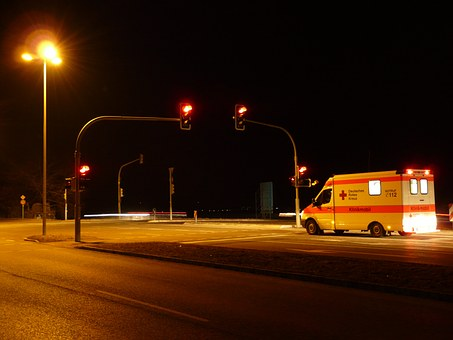trafic: (232, 100, 249, 132), (177, 98, 194, 130)
